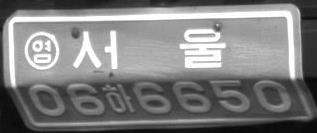0: (251, 78, 292, 114), (28, 82, 66, 118)
5: (212, 79, 250, 112)
6: (66, 81, 105, 117), (172, 80, 211, 113), (136, 80, 171, 115)
서울_D: (72, 26, 225, 69)
영: (24, 30, 59, 71)
하: (106, 83, 135, 114)
